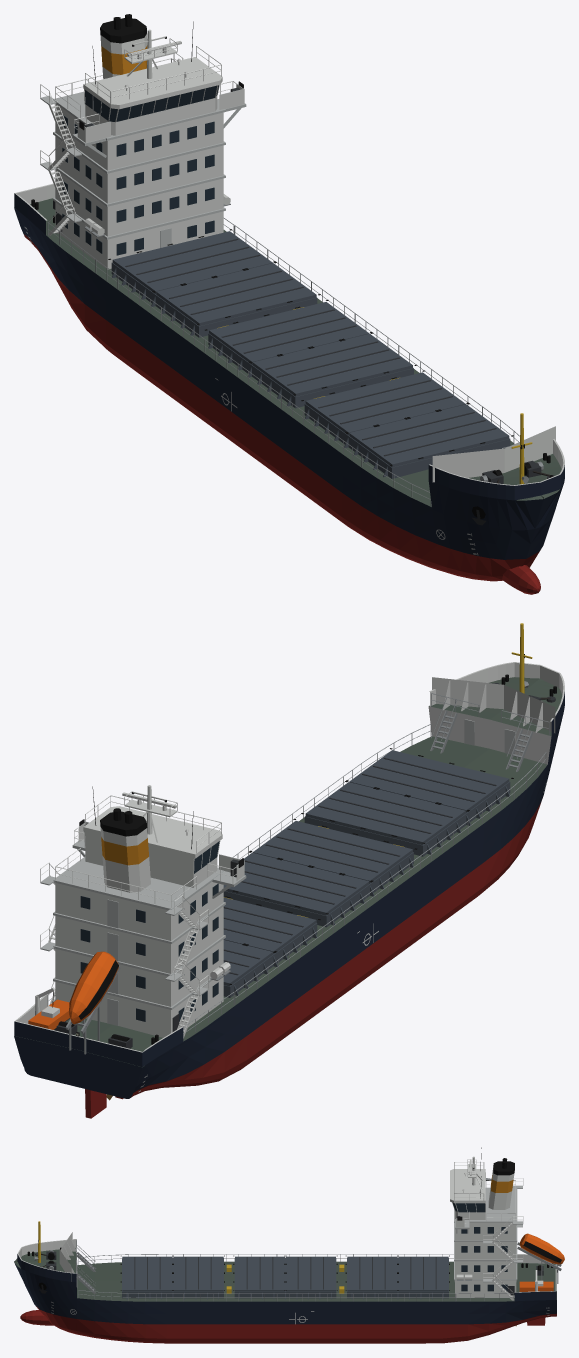
The model's file is cargo_mid.glb.
3 renders of one model, top to bottom at view 1: azimuth 30°, elevation 25°; view 2: azimuth 150°, elevation 25°; view 3: azimuth 270°, elevation 25°, orthographic. The views are drawn at different scales.
Visible parts, largest first — view 1: fixed, hull, window, glass, funnel; view 2: fixed, hull, window, funnel; view 3: fixed, hull, window, glass, funnel.
Part boxes in pixels (x1,y1,x2,y2): fixed: (14,14,564,594); hull: (14,193,564,559); window: (62,115,214,255); glass: (85,85,218,121); funnel: (101,45,147,74); fixed: (14,623,564,1118); hull: (14,692,564,1098); window: (80,883,218,1021); funnel: (101,837,148,865); fixed: (14,1147,564,1343); hull: (14,1254,556,1324); window: (461,1227,507,1291); glass: (452,1203,485,1212); funnel: (491,1175,513,1192).
Bounding box in the file's own units: 12.8 × 22 × 64.95.
